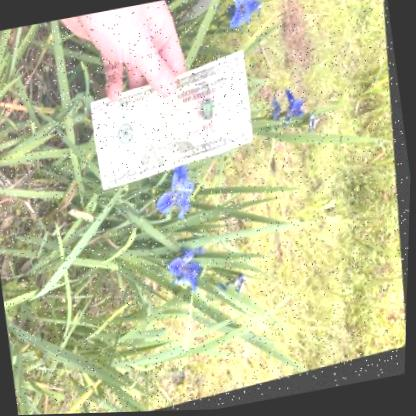dollar_front: (91, 54, 255, 193)
